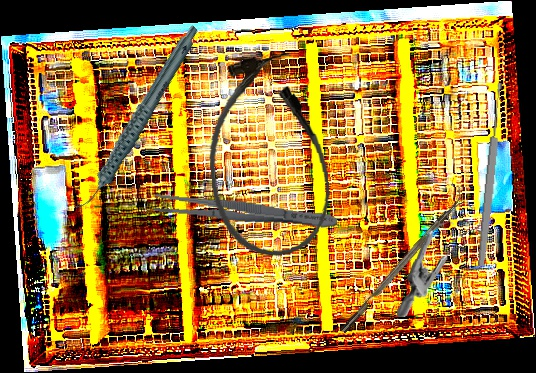Cannula: (199, 49, 336, 263)
Chopper: (334, 185, 469, 334)
Dressing Forceps: (152, 190, 339, 234)
Handpiece: (42, 24, 232, 214)
Speculum: (396, 196, 490, 323)
Surgical Spoon: (475, 82, 507, 267)
